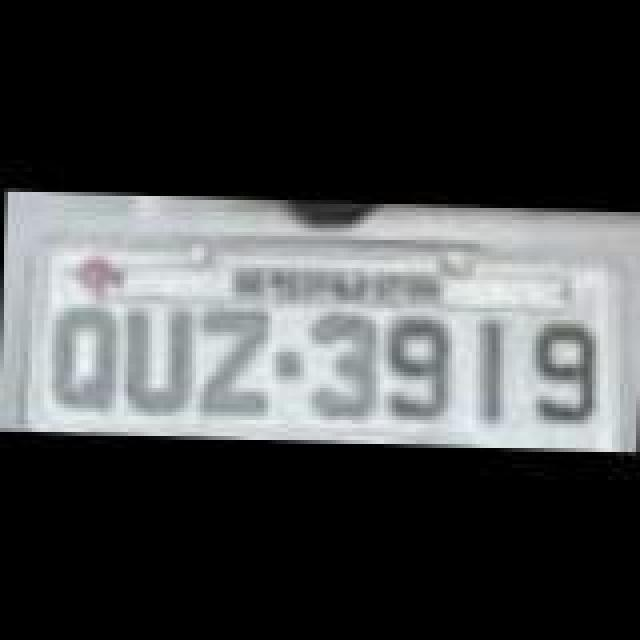1: (466, 308, 510, 428)
3: (300, 306, 380, 422)
9: (522, 314, 598, 430), (380, 310, 452, 426)
Q: (44, 296, 116, 408)
U: (122, 300, 198, 420)
Z: (190, 302, 274, 410)
